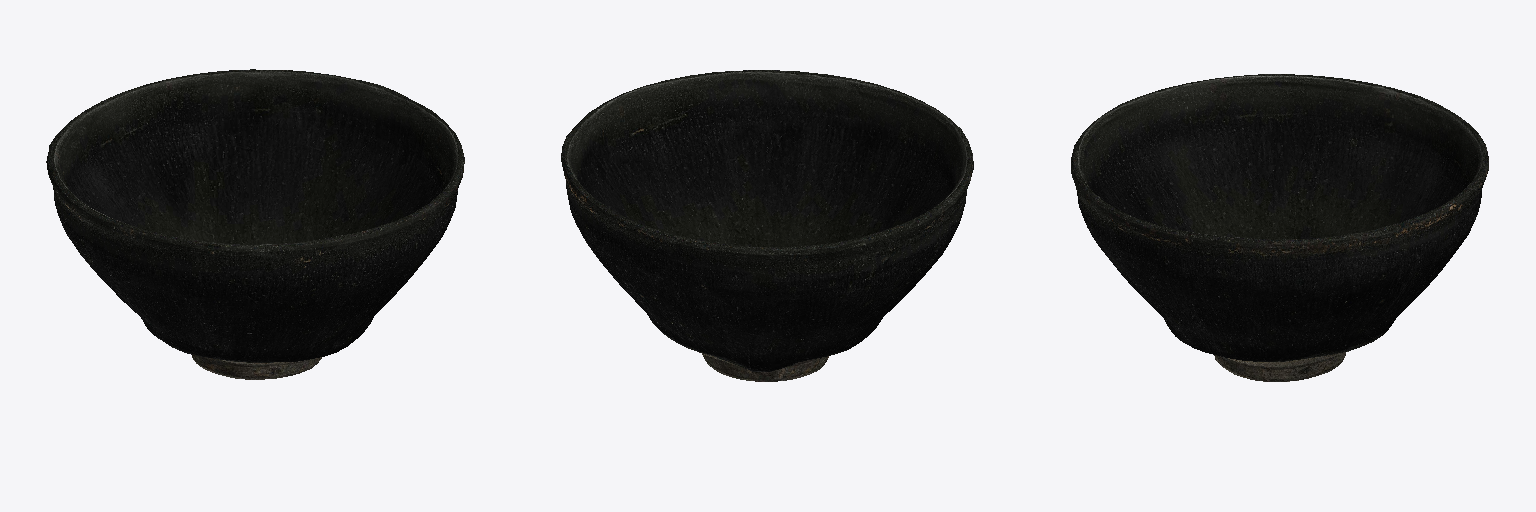
3 views of the same model, side by side, from view 1: azimuth 30°, elevation 25°; view 2: azimuth 150°, elevation 25°; view 3: azimuth 270°, elevation 25° (orthographic).
Visible parts, largest first — view 1: Group1; view 2: Group1; view 3: Group1.
Part boxes in pixels (x1,y1,x2,y2): Group1: (46, 69, 464, 379); Group1: (561, 70, 973, 381); Group1: (1071, 74, 1488, 381).
Size of the model in its own units: 317 by 173 by 321.
Materials: 1 (1 with a texture image).